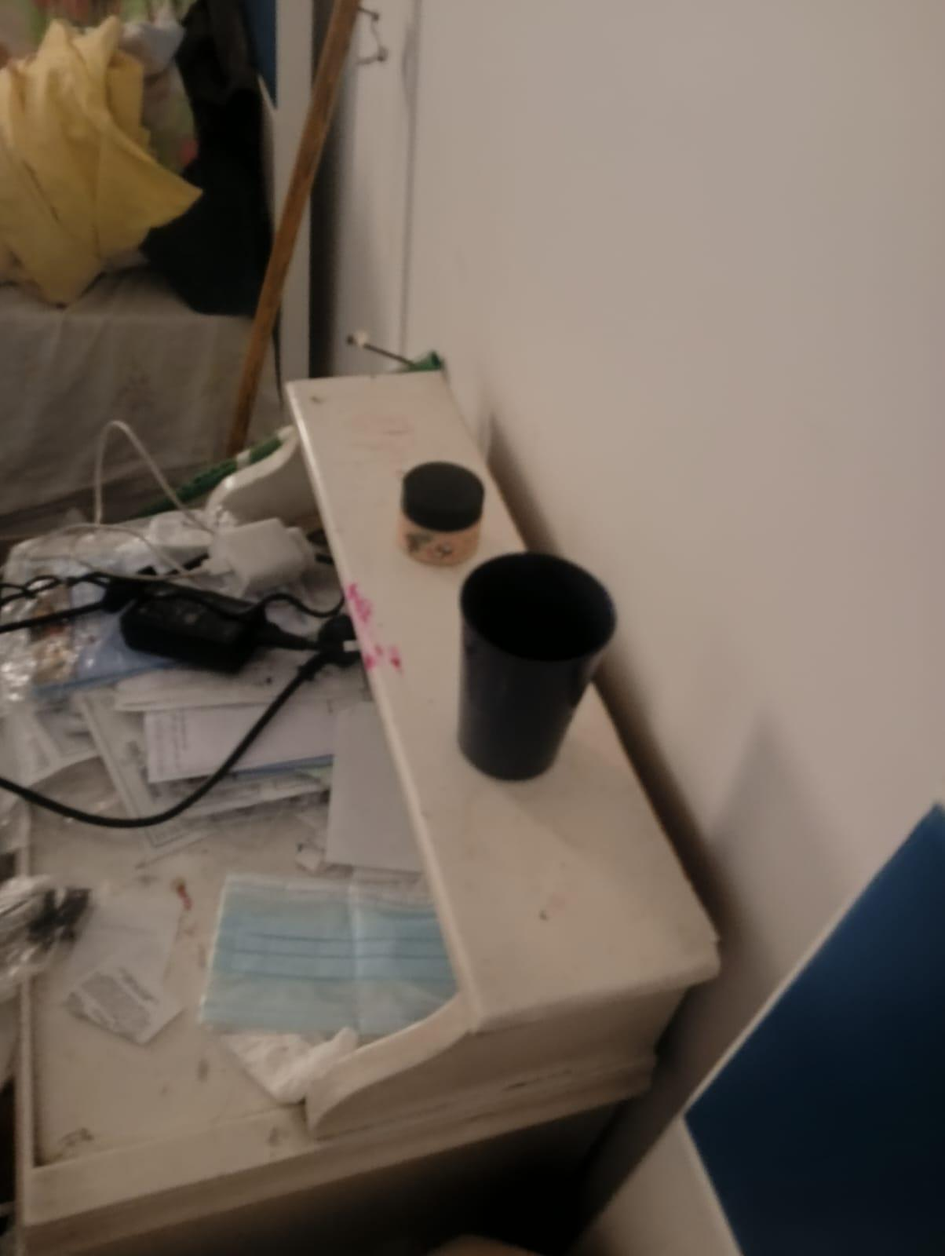cup: (458, 553, 615, 780)
